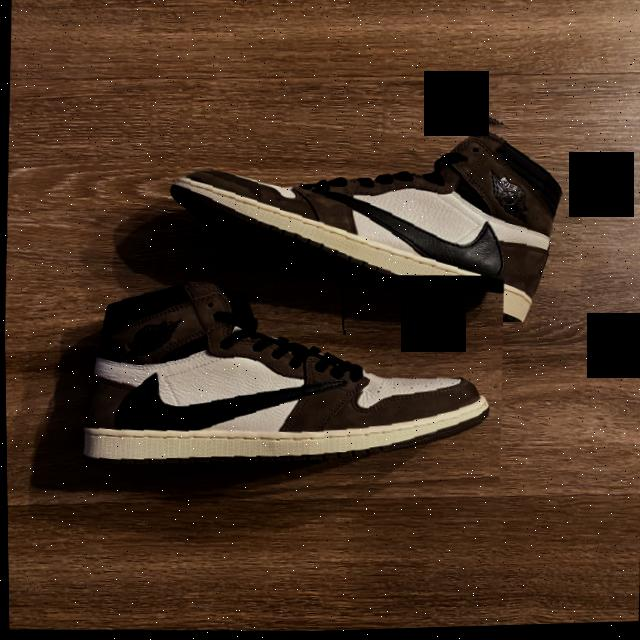shoe: (33, 262, 505, 517), (150, 99, 587, 335)
